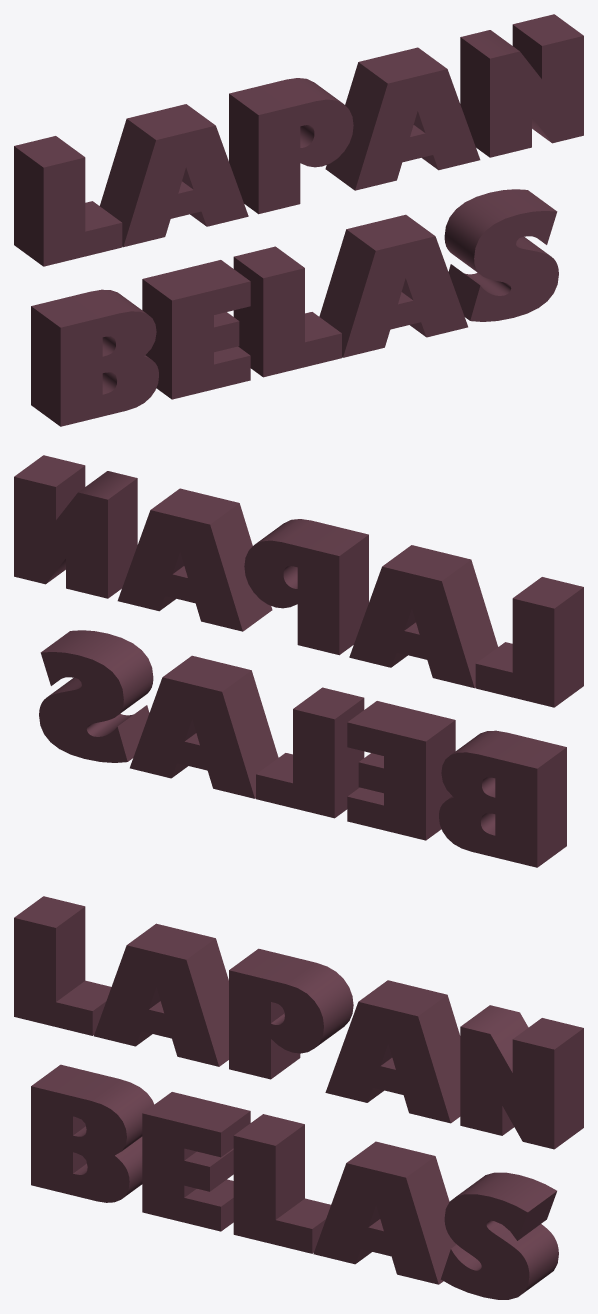
Rendered from LAPAN BELAS.fbx.
3 renders of one model, top to bottom at view 1: azimuth 30°, elevation 25°; view 2: azimuth 150°, elevation 25°; view 3: azimuth 330°, elevation 25°, orthographic.
Visible parts, largest first — view 1: node_id166 (×2); view 2: node_id166 (×2); view 3: node_id166 (×2).
Boxes of the visible parts, x1,y1,x2,y2 form: node_id166 (×2): (14, 14, 583, 426); node_id166 (×2): (14, 455, 583, 867); node_id166 (×2): (14, 896, 583, 1299).
Size of the model in its own units: 0.1584 by 0.0742 by 0.015.
